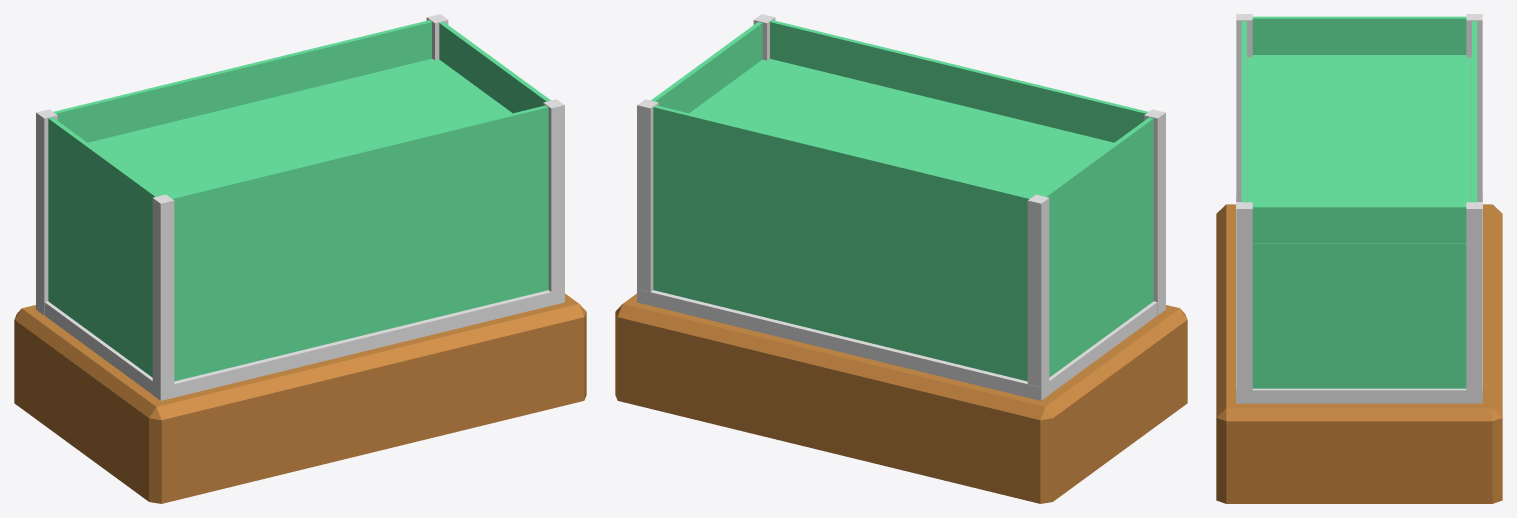
The model's file is be ca canh.FBX.
The picture shows the model from 3 angles, left to right: view 1: azimuth 30°, elevation 25°; view 2: azimuth 150°, elevation 25°; view 3: azimuth 270°, elevation 25°; orthographic projection.
Visible parts, largest first — view 1: Box1910; view 2: Box1910; view 3: Box1910.
Boxes of the visible parts, x1,y1,x2,y2 form: Box1910: [14, 14, 586, 503]; Box1910: [615, 14, 1187, 503]; Box1910: [1216, 14, 1502, 503].
Bounding box in the file's own units: 8.36 × 5.31 × 4.8.
